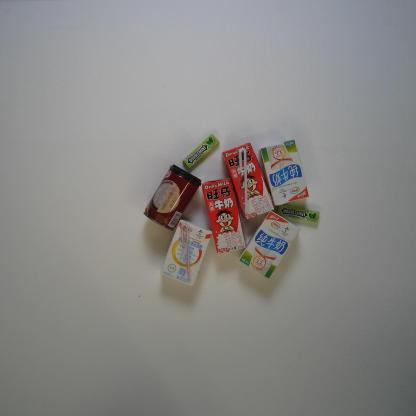Canned Food: (142, 163, 203, 232)
Gum: (182, 134, 220, 170), (277, 204, 320, 224)
Milk: (238, 211, 302, 280), (221, 142, 275, 221), (159, 218, 213, 288), (201, 177, 247, 256), (259, 139, 310, 206)
